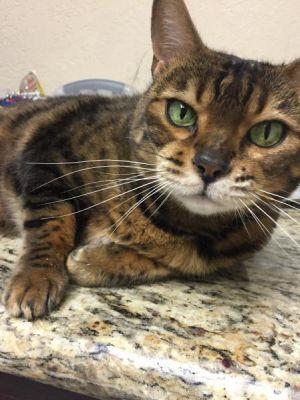bengal: (109, 1, 300, 233)
